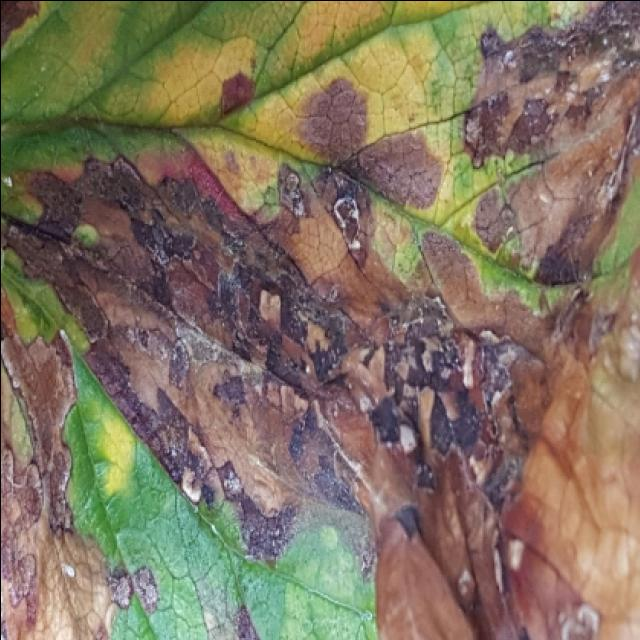Angular Leafspot: (0, 2, 638, 640)
